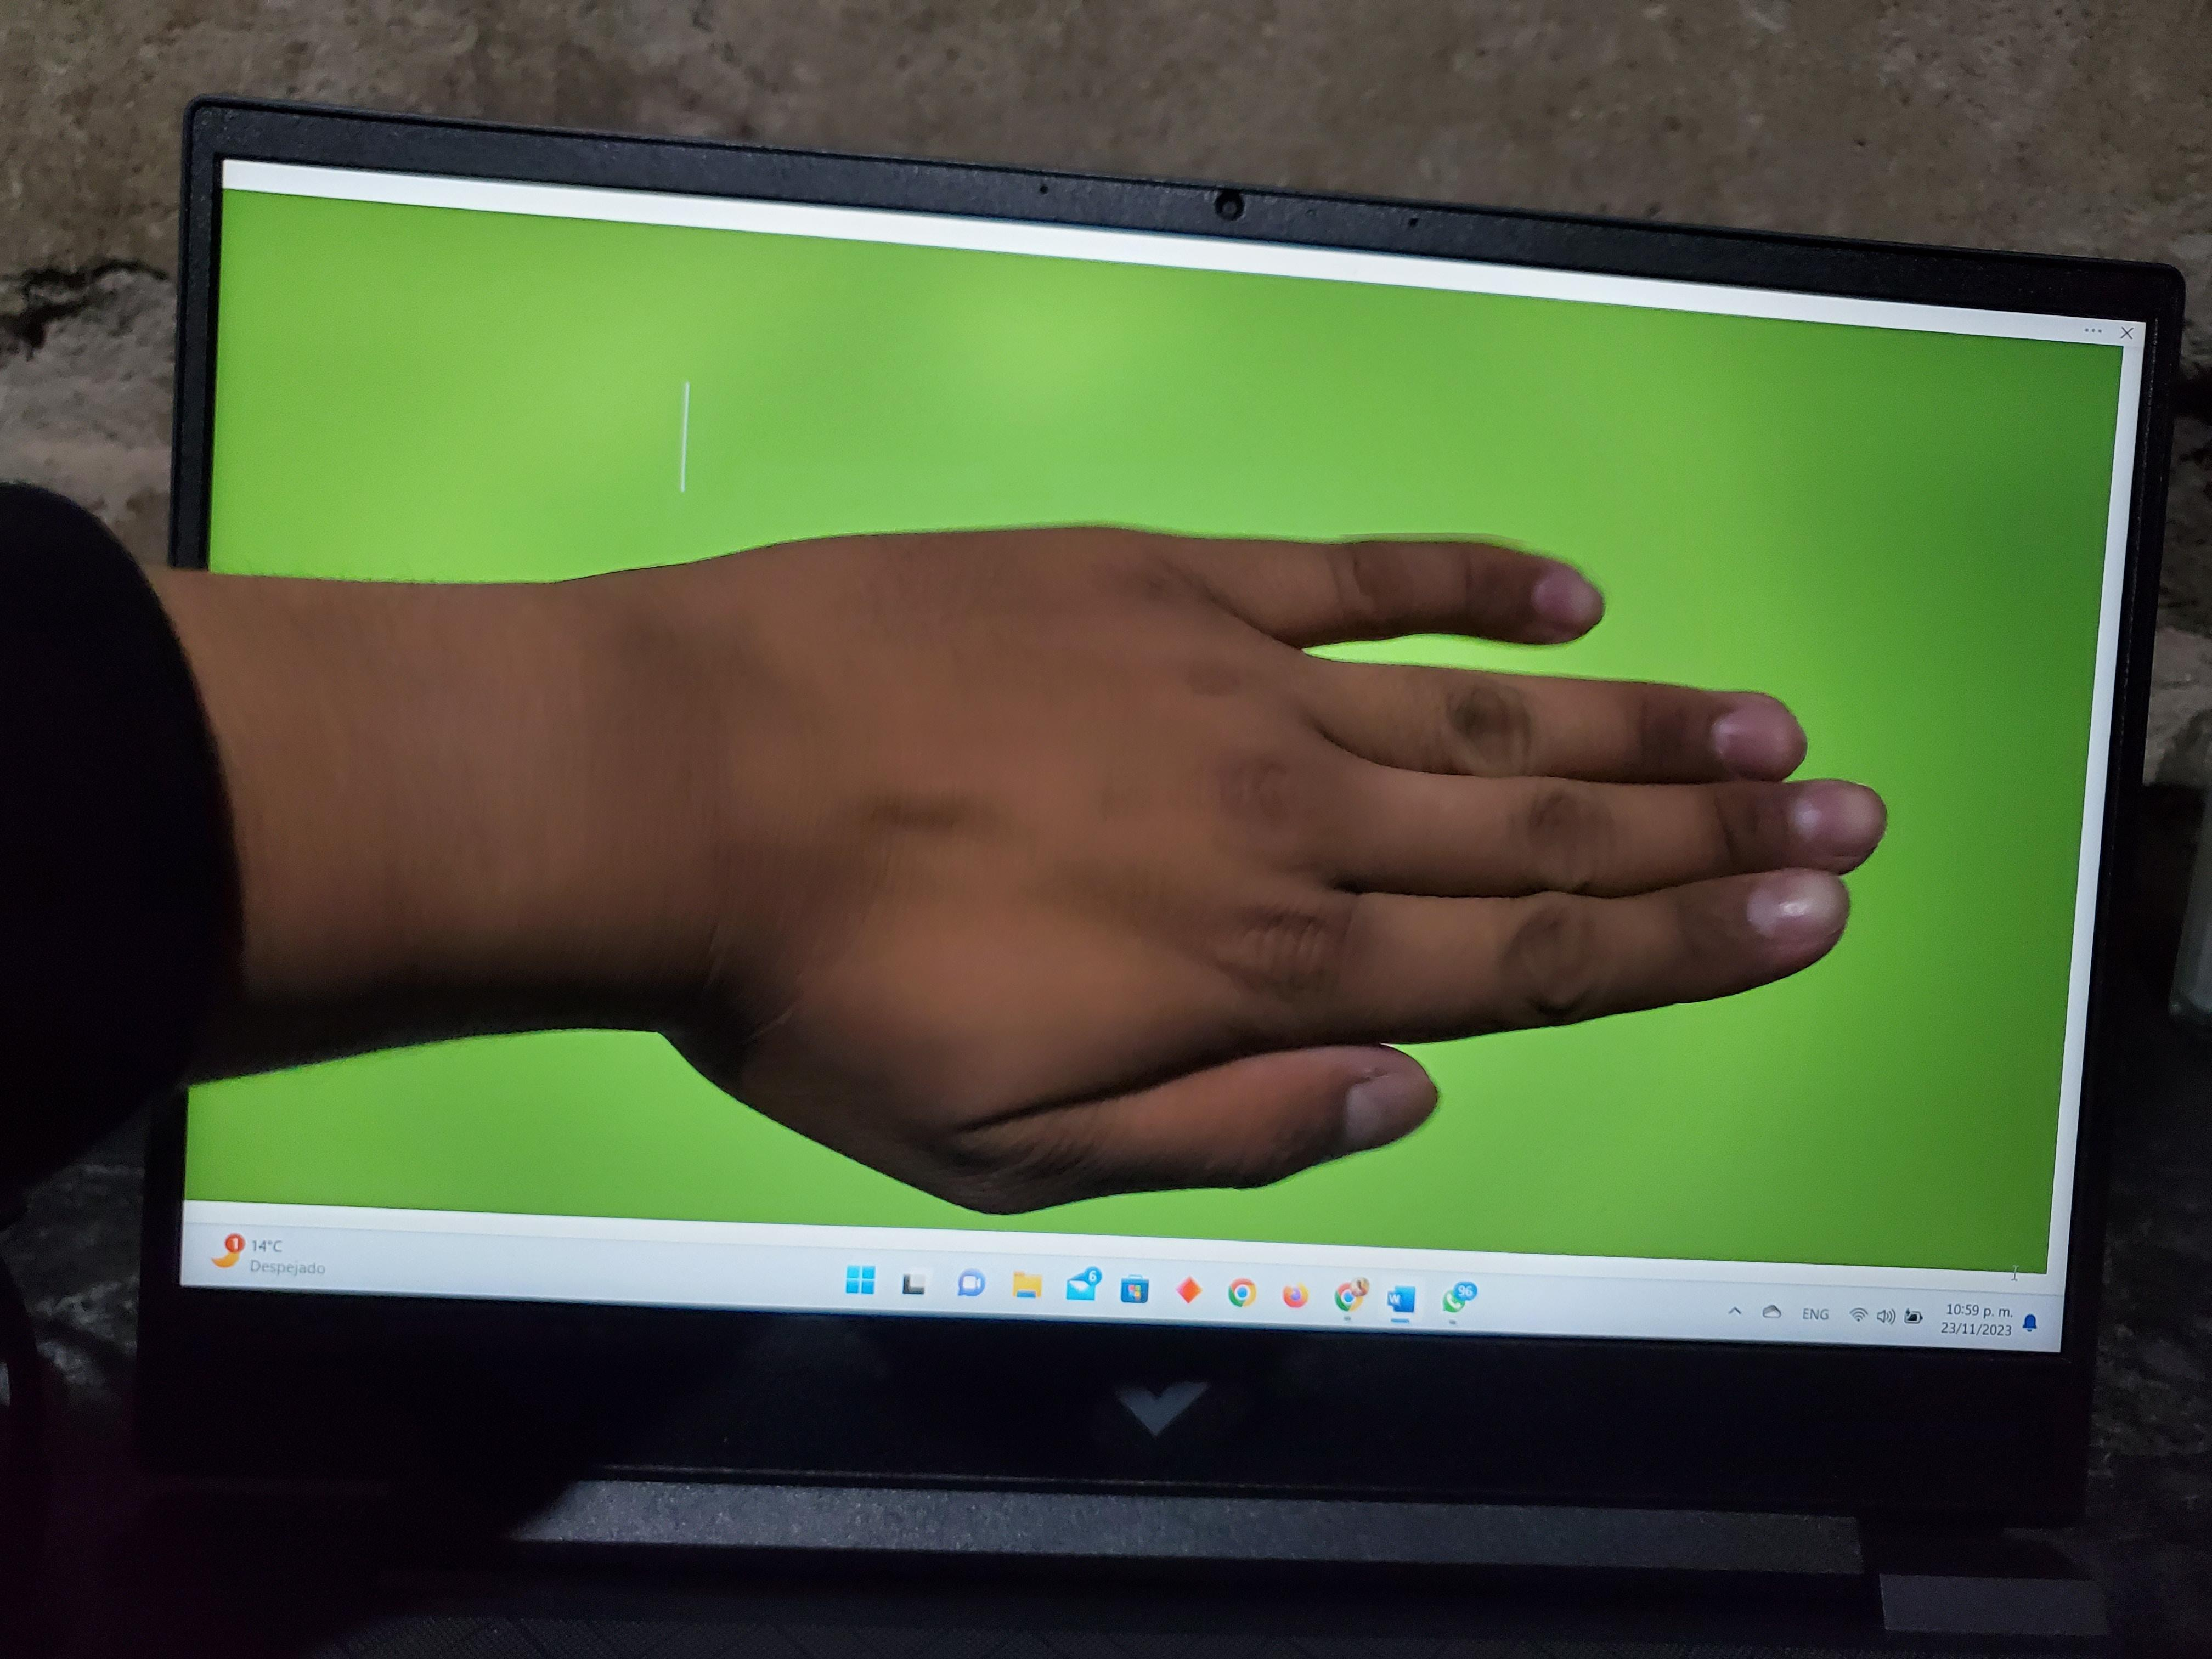Paper: (341, 352, 2085, 1304)
